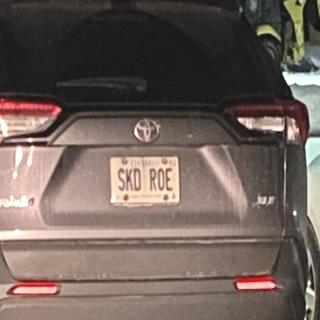license: (110, 156, 182, 208)
